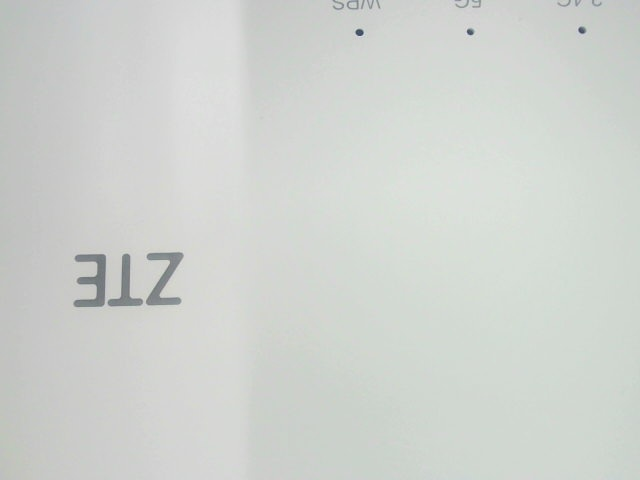AO_ZTESmall: (64, 240, 192, 320)
